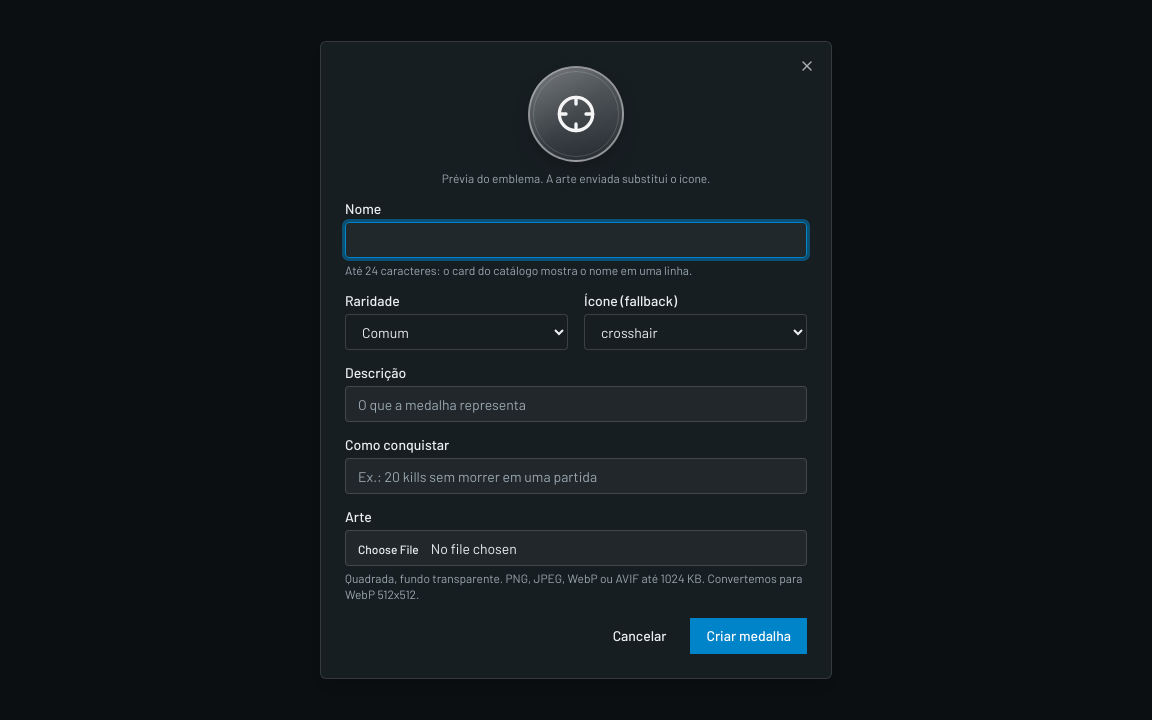
Scenario: MedalForm › shows field errors next to the inputs instead of a toast
Type "F" into the field labelled "Nome".
click(576, 240); type("F")  # box [345,222,807,258]
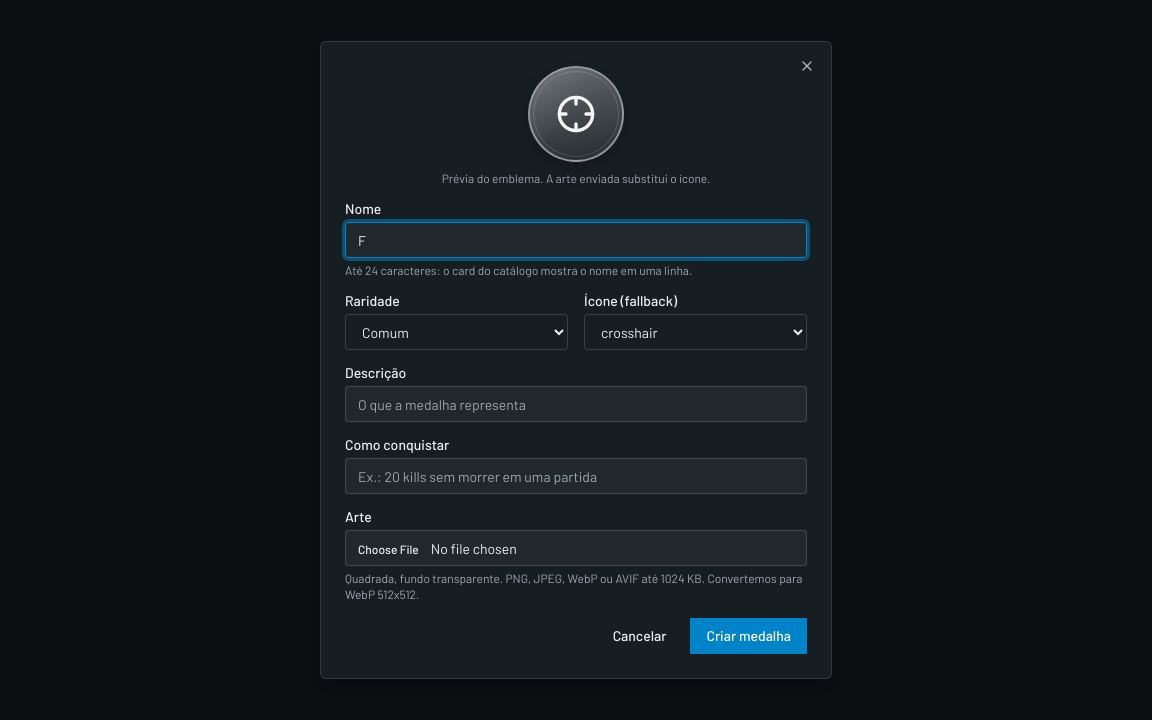
Click the button "Criar medalha".
click(749, 636)  # box [690,618,807,654]
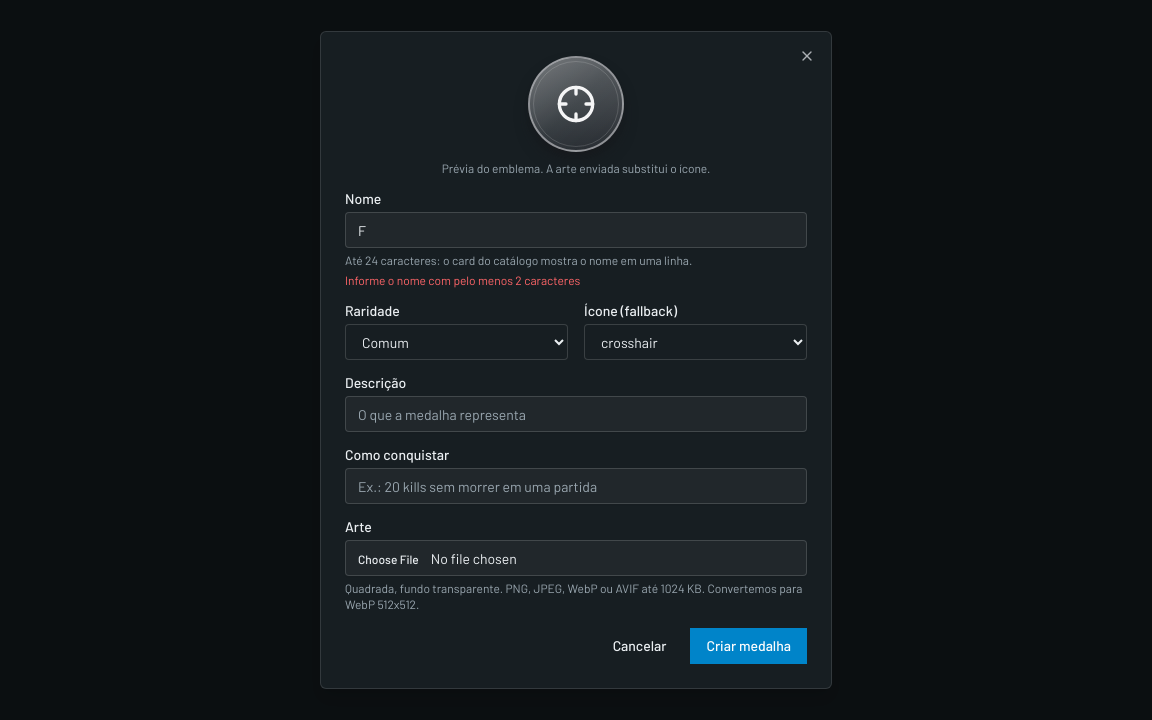
Now the text "Informe o nome com pelo menos 2 caracteres" is shown, box [345,273,580,287]
